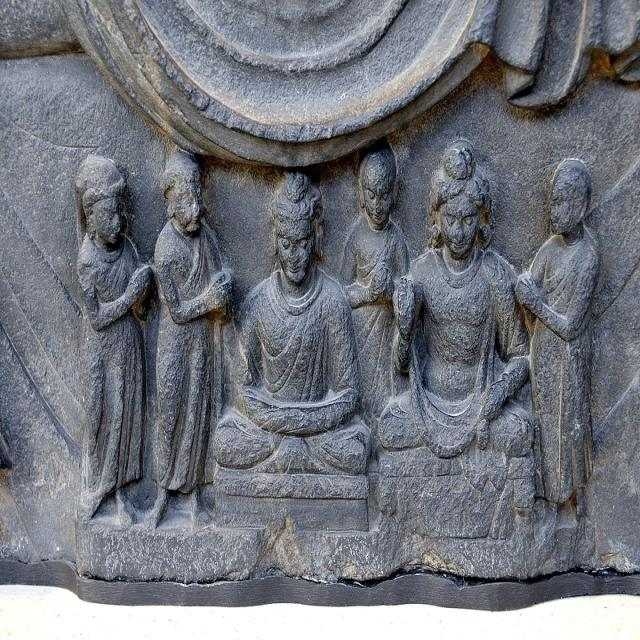buddha-sitting: (378, 139, 535, 540), (212, 172, 371, 530)
